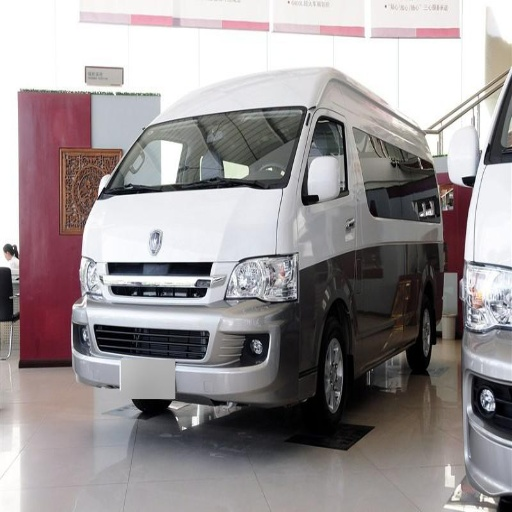front_bumper: (73, 258, 323, 399), (469, 406, 508, 483)
front_glass: (103, 112, 304, 197)
front_left_door: (301, 108, 392, 347)
trunk: (381, 241, 429, 285)
